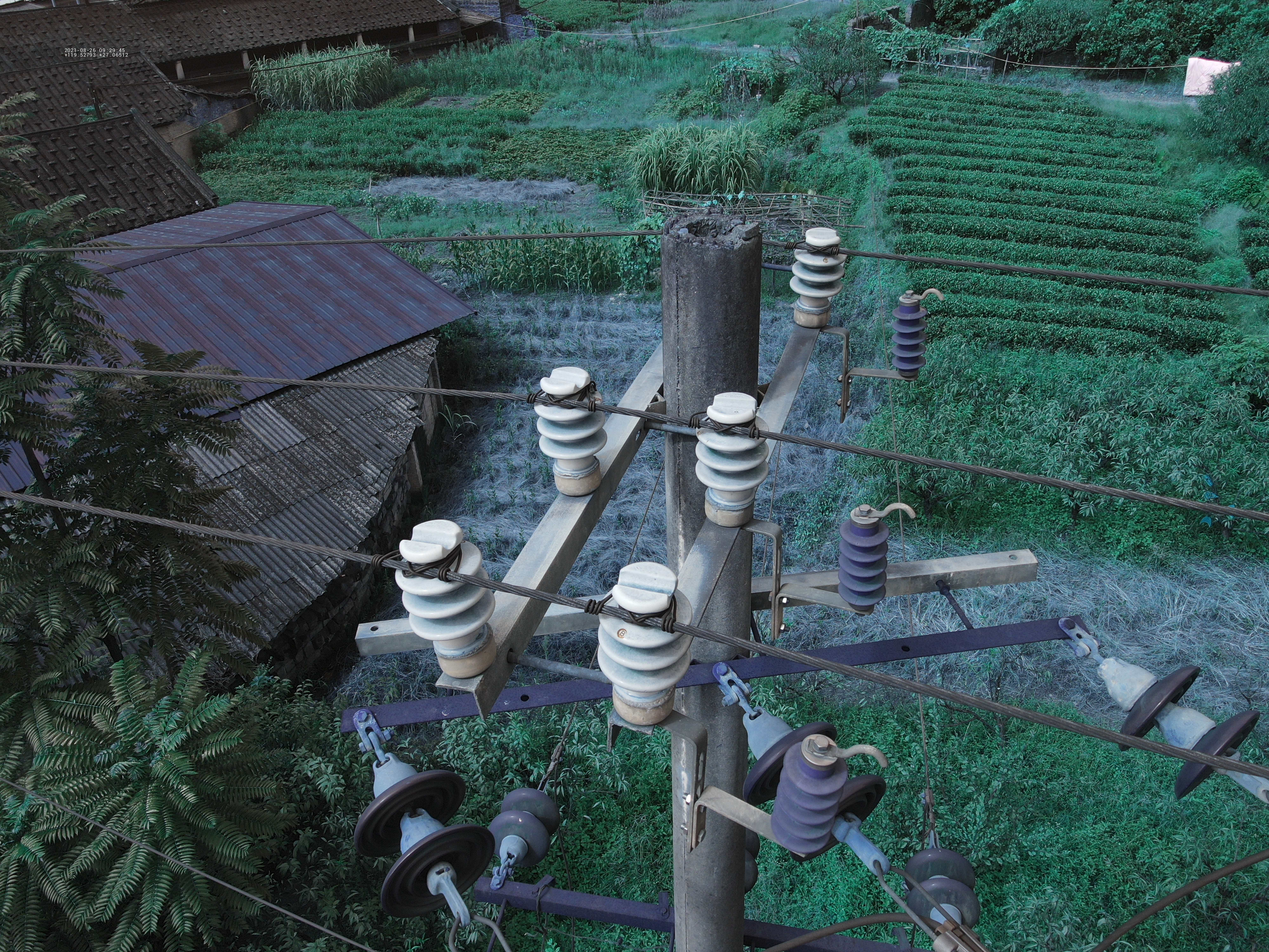severe_soiling_no_discharge_whole: (387, 516, 506, 678), (595, 561, 699, 730), (693, 390, 774, 529), (528, 365, 611, 497), (782, 222, 846, 331), (903, 843, 983, 930), (486, 787, 564, 872)
